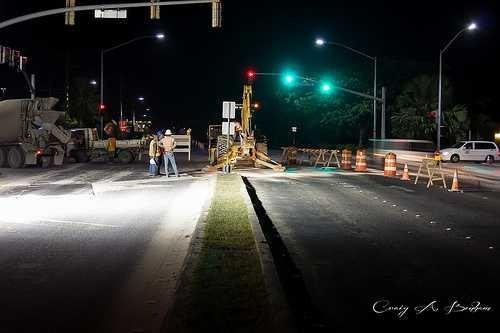red: (278, 67, 304, 90), (319, 75, 341, 99)
